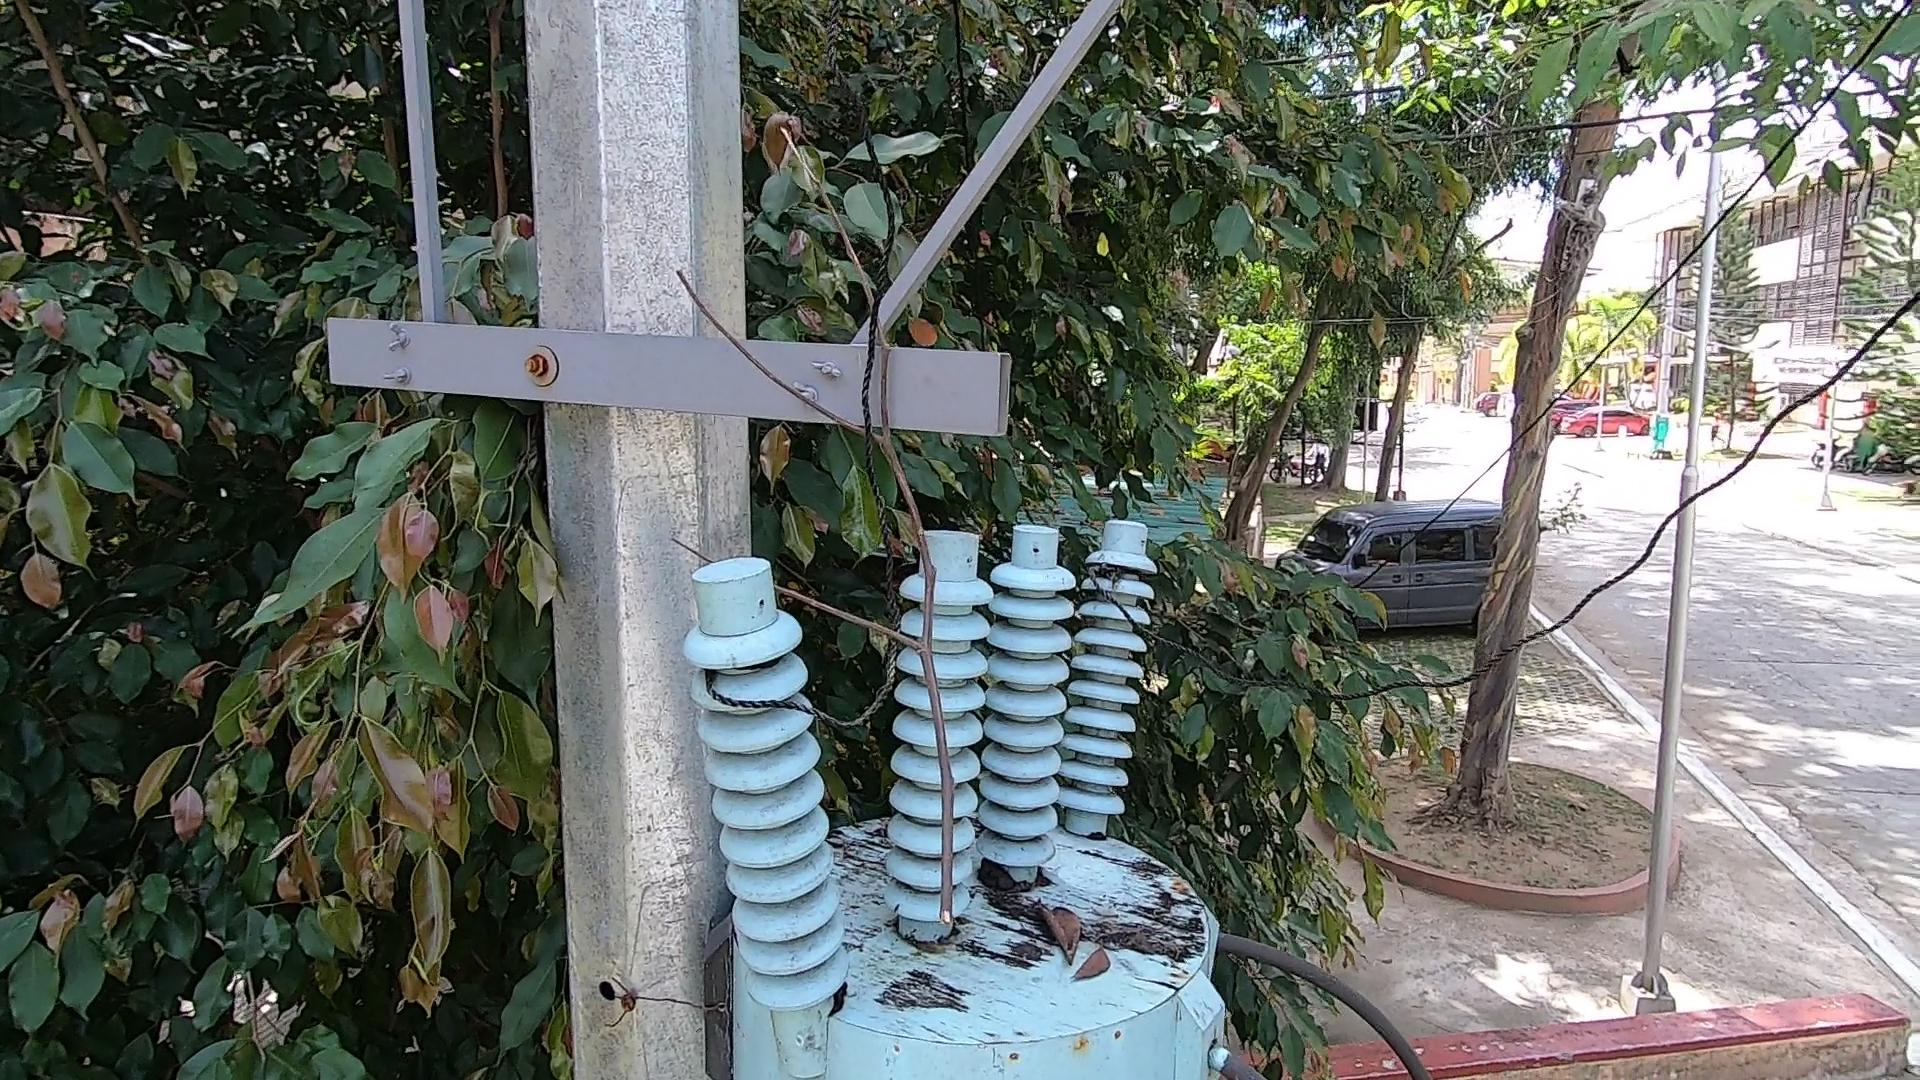leaf: (1029, 882, 1091, 967), (969, 857, 1026, 899), (1077, 943, 1116, 984)
tree branch: (674, 160, 985, 927)
